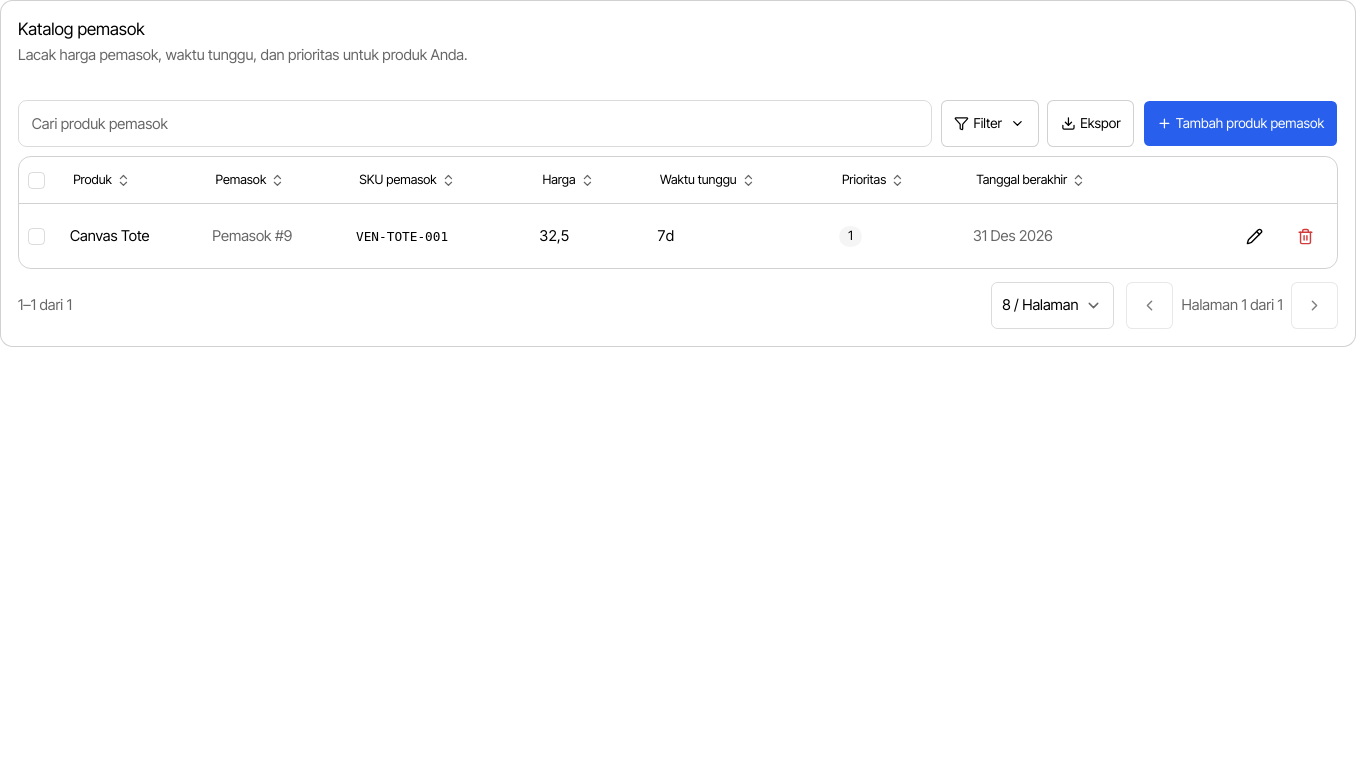
Test case: SupplierCatalogSection branches4 › edits an item with every optional field set
Expected: the text "VEN-TOTE-001" is shown, [356, 229, 448, 244]
Click the button named "Ubah produk pemasok". click: [1254, 236]
box: [1231, 213, 1278, 260]
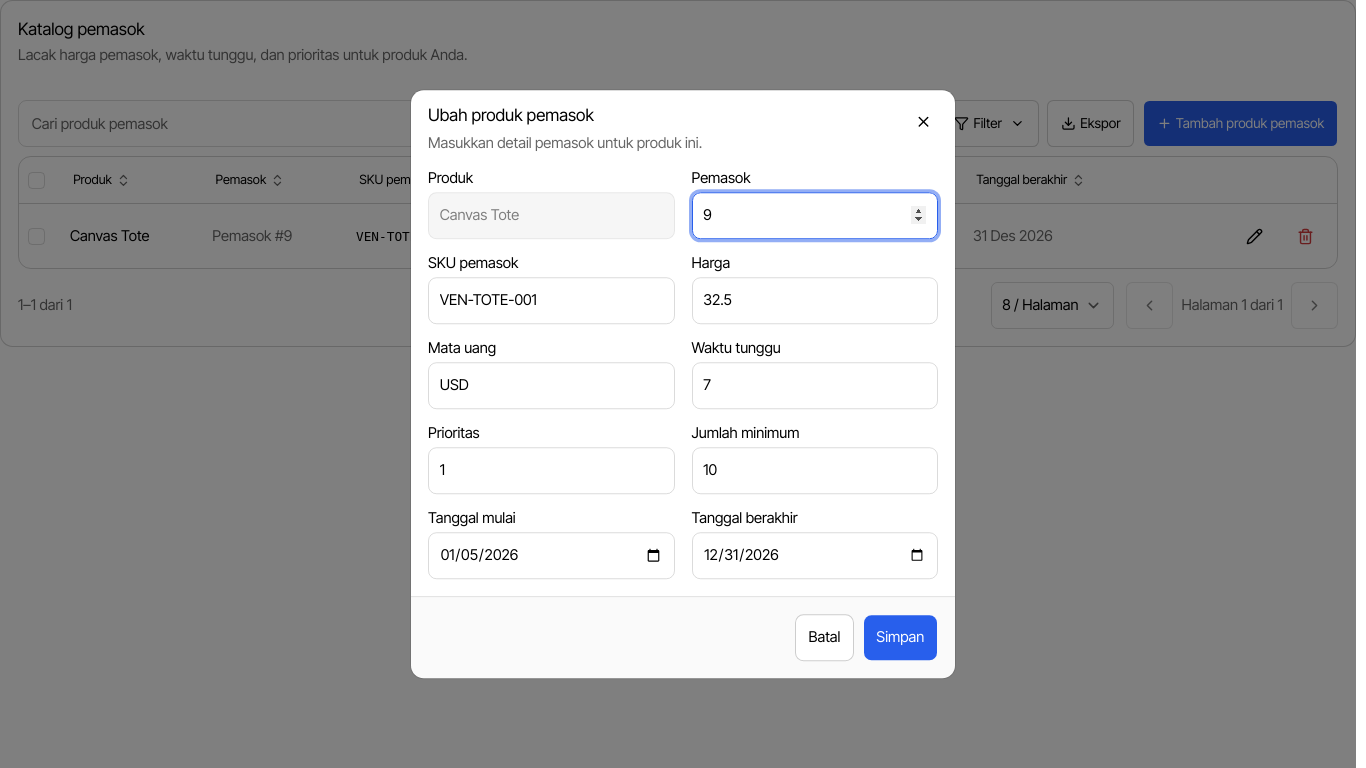
Now the field labelled "SKU pemasok" holds "VEN-TOTE-001", box [428, 277, 674, 324]
Now the number field labelled "Harga" holds "32.5", box [692, 277, 938, 324]
